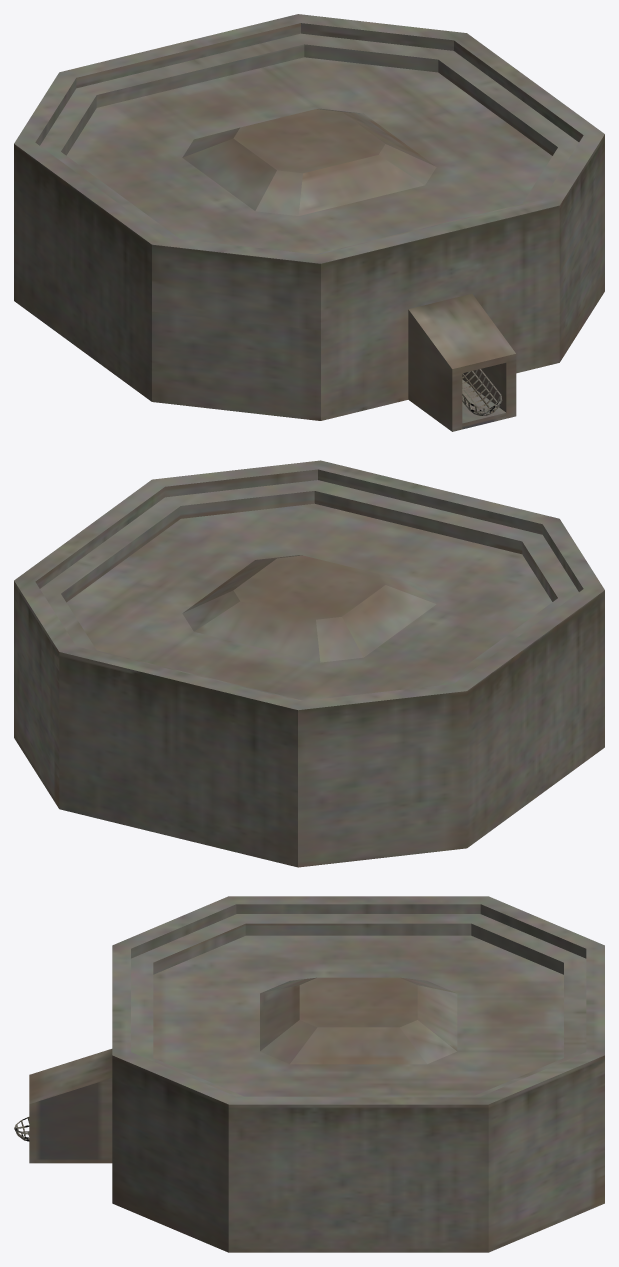
Rendered from machine_base.glb.
3 renders of one model, top to bottom at view 1: azimuth 30°, elevation 25°; view 2: azimuth 150°, elevation 25°; view 3: azimuth 270°, elevation 25°, orthographic. The views are drawn at different scales.
Parts seen in each view (by area): view 1: Base, Rail; view 2: Base; view 3: Base.
Part boxes in pixels (x1=…): Base: x1=14, y1=14, x2=604, y2=431; Rail: x1=462, y1=369, x2=502, y2=415; Base: x1=14, y1=460, x2=604, y2=867; Base: x1=29, y1=896, x2=604, y2=1252.
Size of the model in its own units: 0.3155 by 0.1047 by 0.3783.
Materials: 1 (1 with a texture image).
